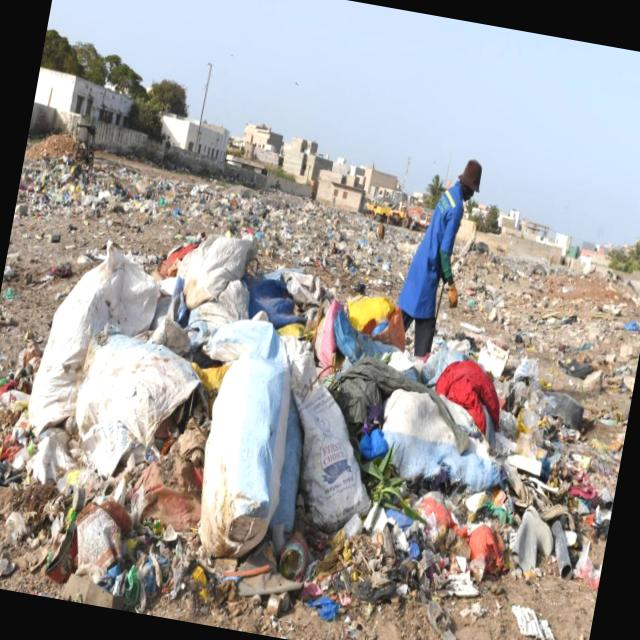garbage: (0, 132, 410, 633)
